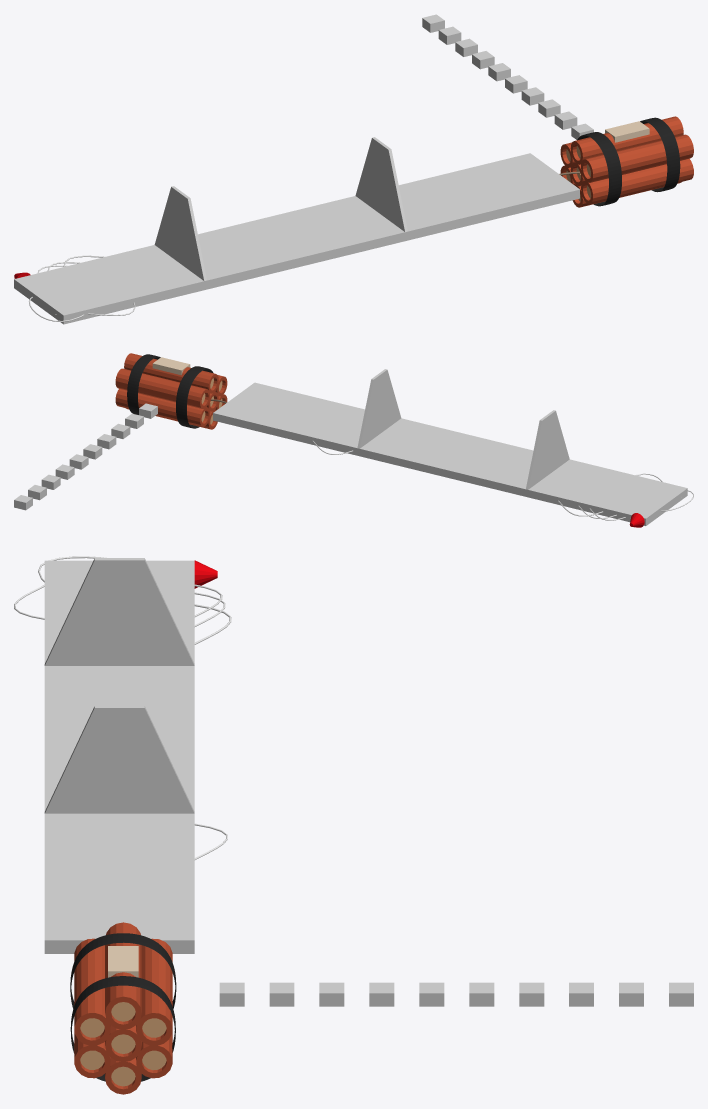
Rendered from panel6.fbx.
3 views of the same model, one above another, from view 1: azimuth 30°, elevation 25°; view 2: azimuth 150°, elevation 25°; view 3: azimuth 270°, elevation 25° (orthographic). The views are drawn at different scales.
Parts seen in each view (by area): view 1: Панель, Динамит, Разделители, Кубики, Завязки, Cube; view 2: Панель, Динамит, Разделители, Кубики, Завязки, Cube; view 3: Панель, Разделители, Динамит, Кубики, Завязки, Cube.
Part boxes in pixels (x1,y1,x2,y2): Панель: (14,153,579,324); Динамит: (560,116,693,207); Разделители: (154,137,407,281); Кубики: (422,14,593,139); Завязки: (577,117,680,206); Cube: (605,121,649,142); Панель: (213,382,687,525); Динамит: (115,353,227,429); Разделители: (357,369,569,489); Кубики: (14,403,157,510); Завязки: (127,354,213,428); Cube: (152,357,190,375); Панель: (44,560,194,953); Разделители: (44,558,194,813); Динамит: (74,922,172,1094); Кубики: (219,982,693,1006); Завязки: (70,933,176,1081); Cube: (108,946,138,977).
Size of the model in its own units: 4561 by 751 by 2723.
